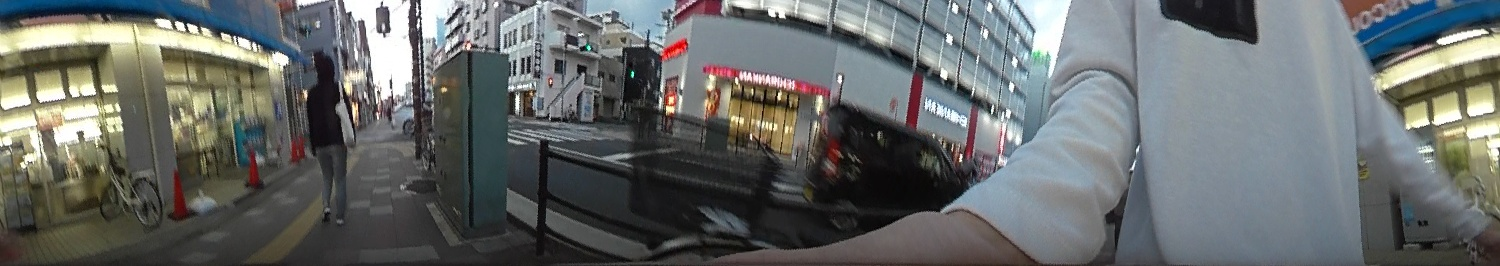person: (299, 51, 360, 223)
